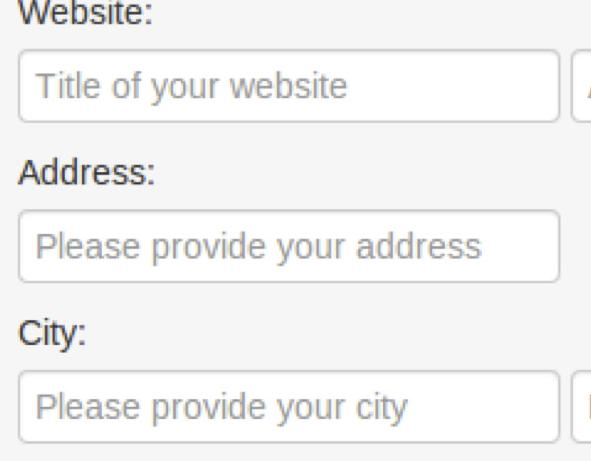field: (15, 205, 563, 288), (15, 367, 565, 445), (15, 47, 565, 121)
